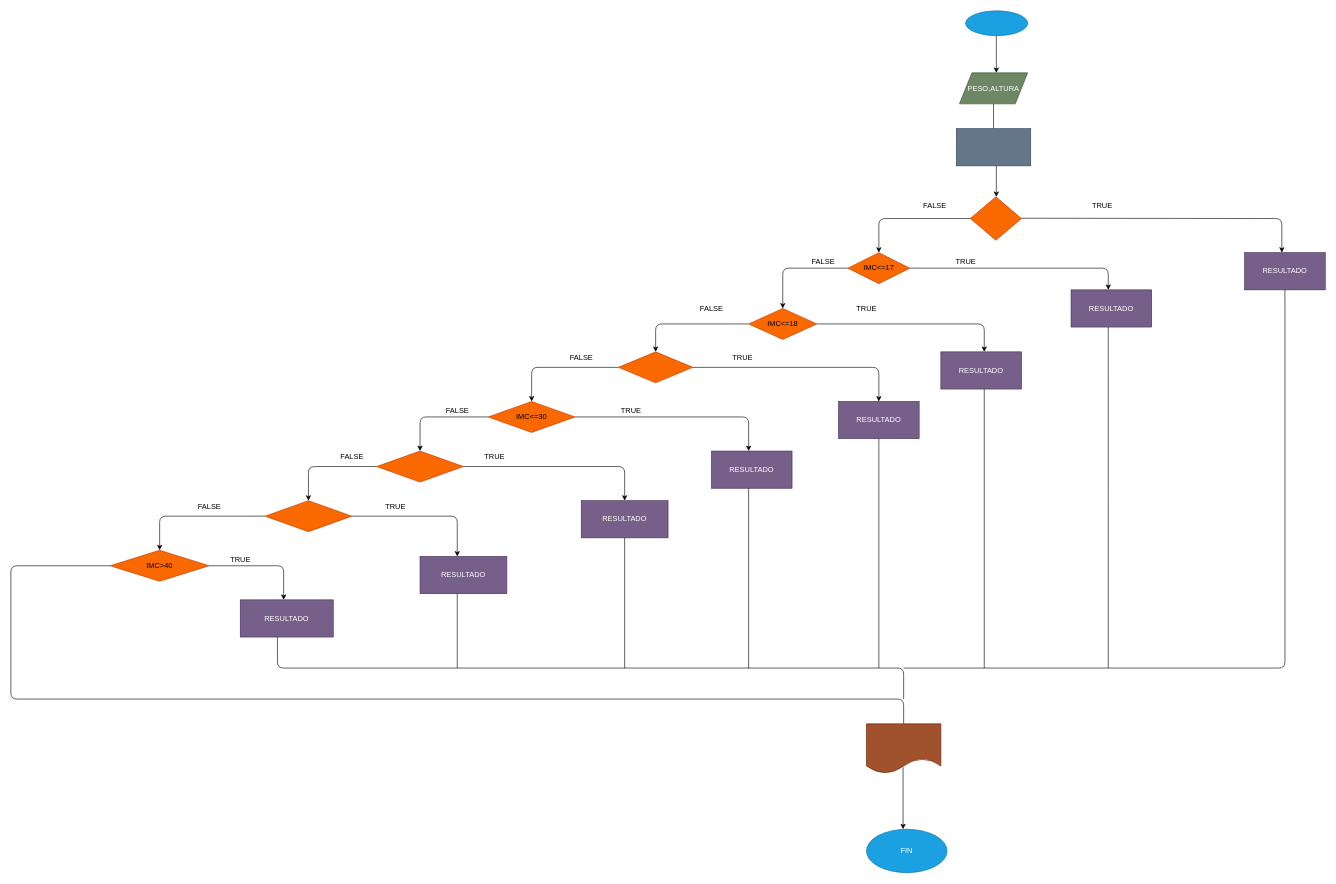
This 1336x884 diagram has some shape labels left out. The shapes that lost their labels are listed below. From the top down, each one's centre as x and y in pixels, then its label:
point 996,23: INICIO
point 993,147: (IMC=PESO[KG]/ ALTURA2[m])
point 995,218: IMC<16
point 655,367: IMC<=25
point 419,466: IMC<=35
point 308,516: IMC<40
point 903,748: PRINT ("RESULTADO")
